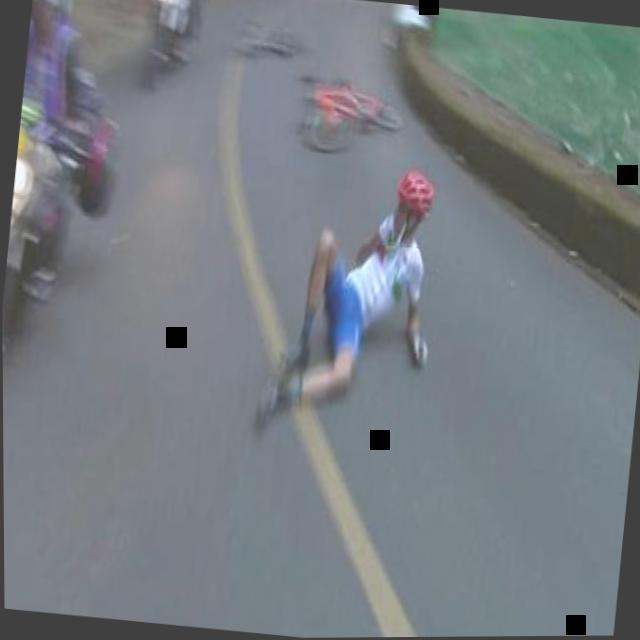Fall-Detected: (243, 126, 458, 451)
